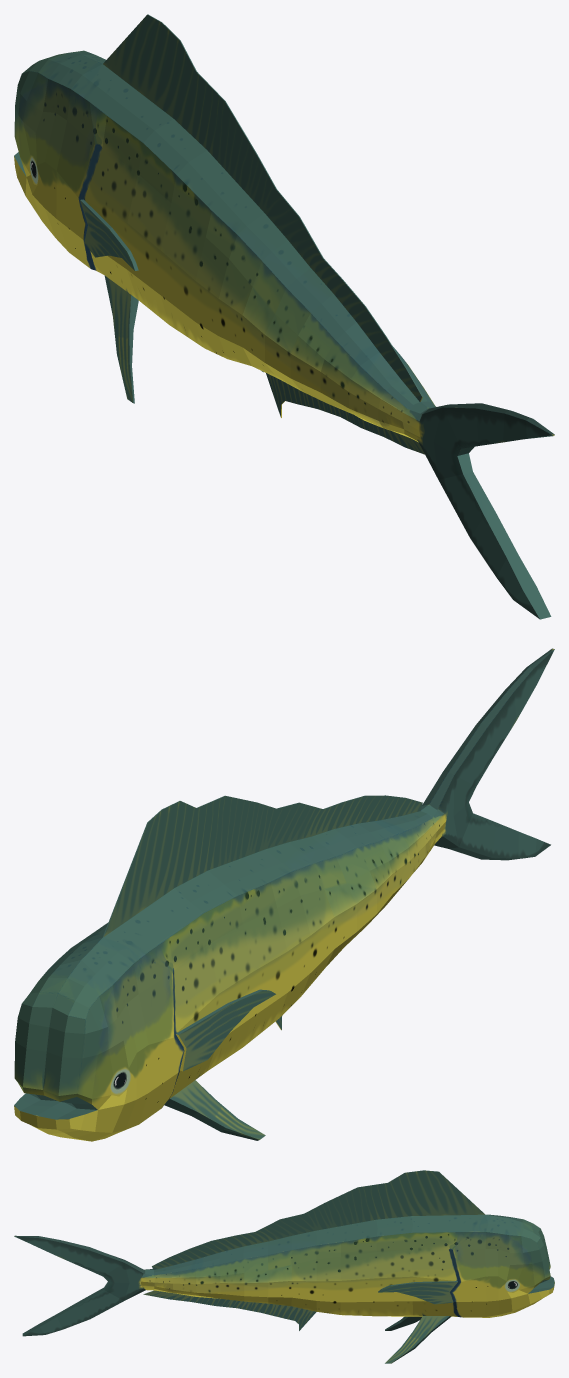
The model's file is mahi_mahi.glb.
3 views of the same model, one above another, from view 1: azimuth 30°, elevation 25°; view 2: azimuth 150°, elevation 25°; view 3: azimuth 270°, elevation 25° (orthographic). The views are drawn at different scales.
Visible parts, largest first — view 1: mahi_mahi; view 2: mahi_mahi; view 3: mahi_mahi.
Part boxes in pixels (x1=…): mahi_mahi: x1=14, y1=14, x2=554, y2=619; mahi_mahi: x1=14, y1=648, x2=554, y2=1141; mahi_mahi: x1=14, y1=1170, x2=554, y2=1363.
Size of the model in its own units: 0.3783 by 0.8656 by 2.4.
1 material, 1 textured.
